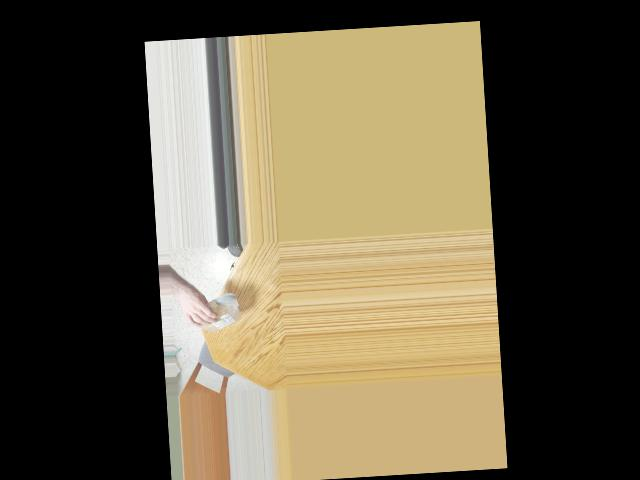cheese: (198, 297, 236, 329)
